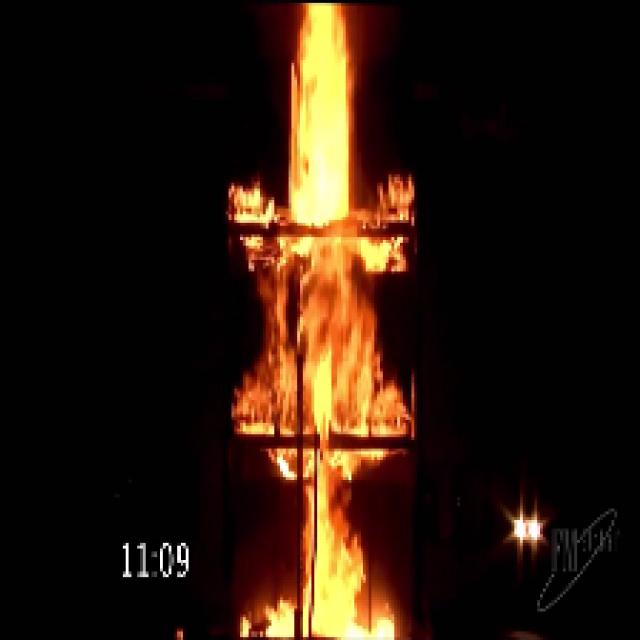fire: (261, 6, 386, 632)
